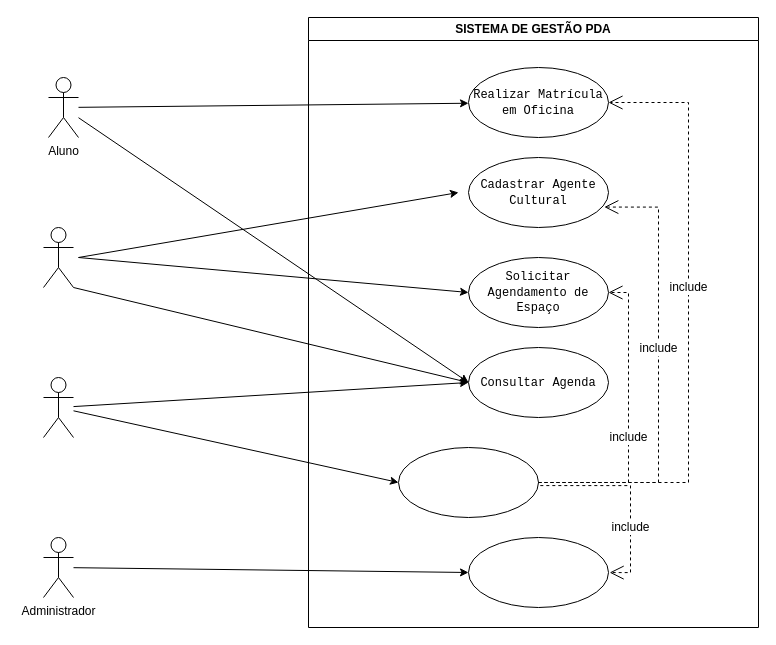
Image size: 776x645. Some labels were removed from this diagram. Here are the shapes that lost their labels. From the top down, the box of each, then its label:
(42, 226, 74, 288): Agente Cultural
(42, 376, 74, 438): Visitante
(398, 446, 538, 518): Realizar log-in
(468, 536, 608, 608): Gerenciar Sistema
